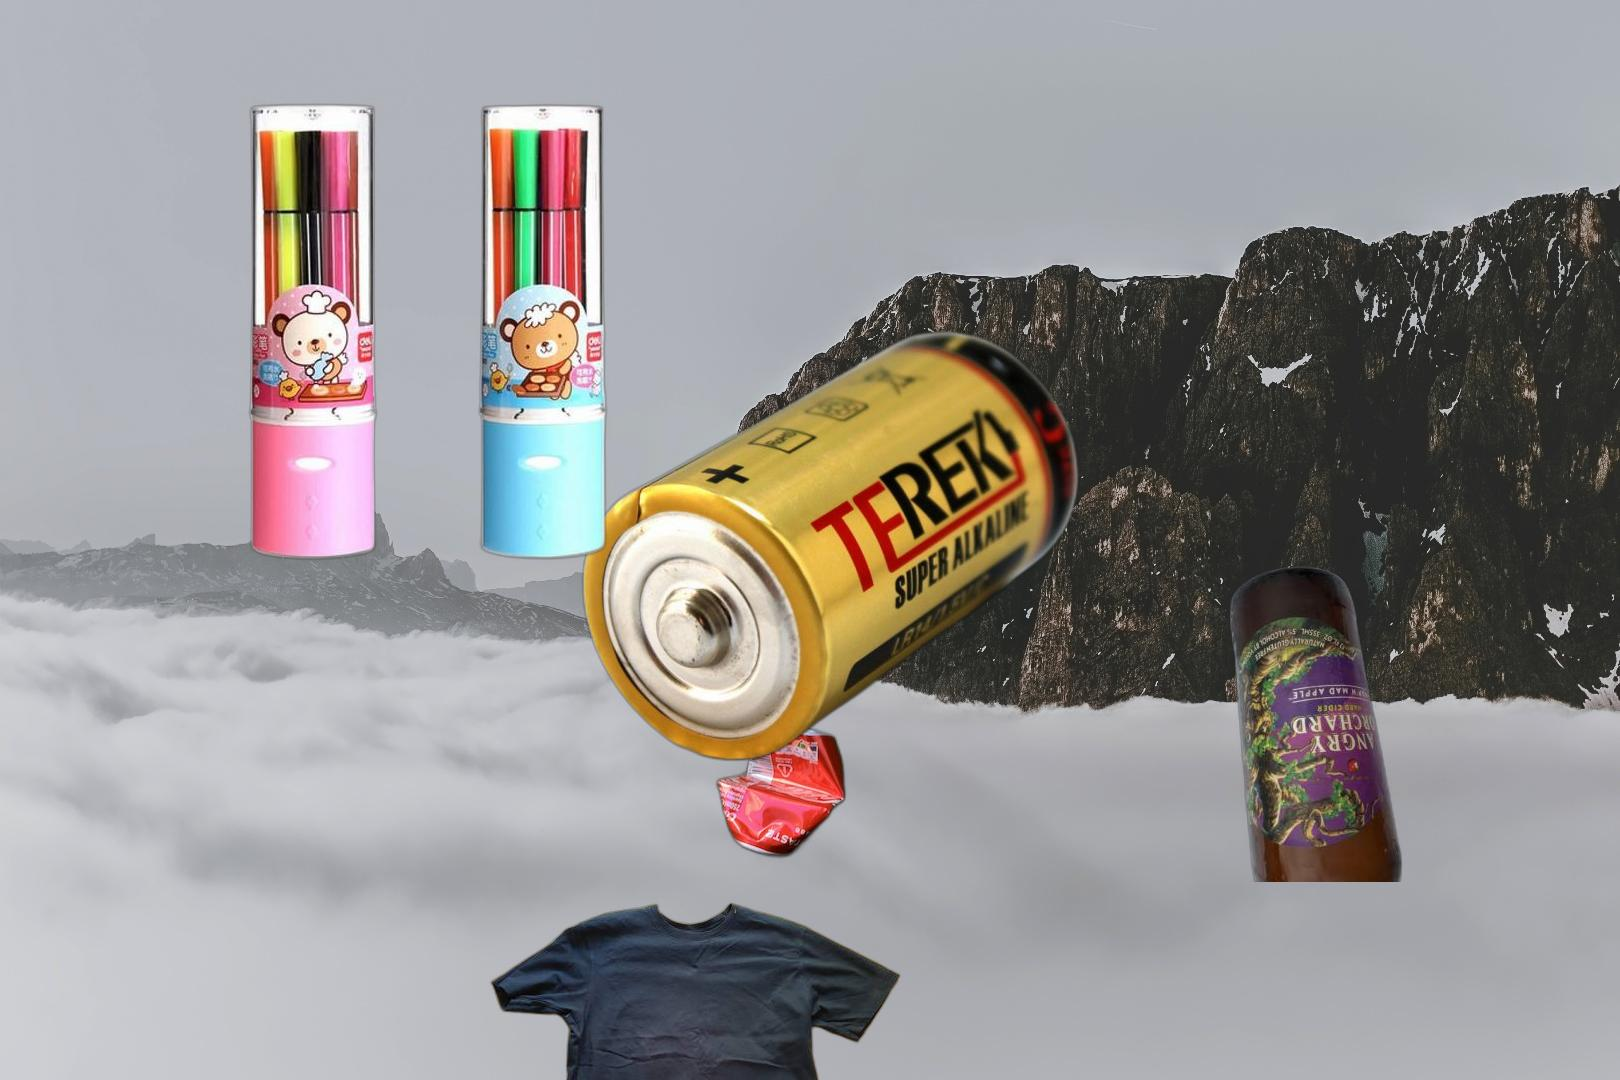battery: (577, 325, 1084, 765)
clothes: (486, 900, 905, 1080)
glass: (1225, 564, 1405, 882)
metal-cans: (712, 717, 850, 863)
penholder: (246, 101, 611, 564)
